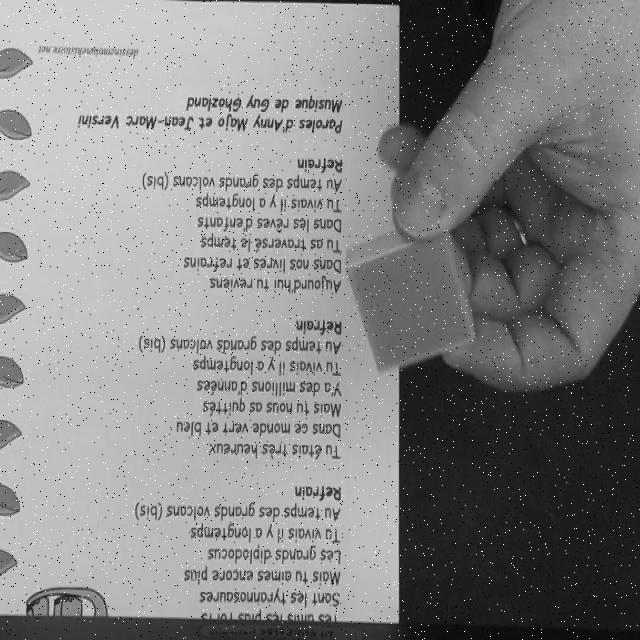square: (345, 221, 475, 375)
